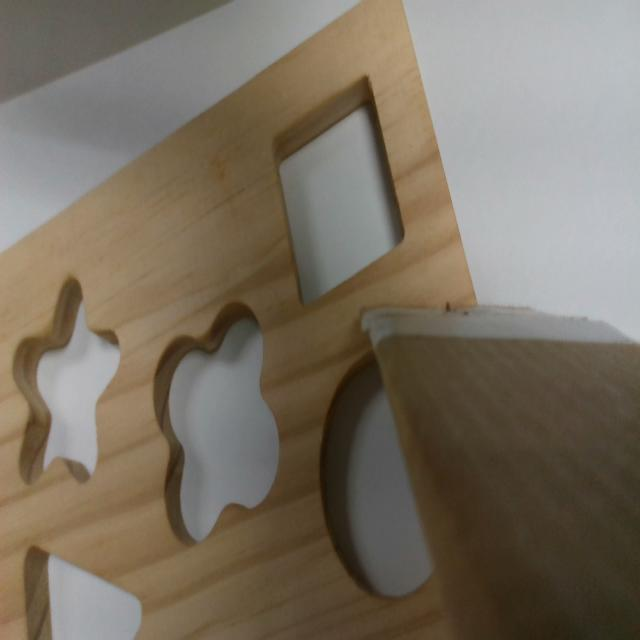circle: (321, 351, 435, 594)
flower: (149, 300, 279, 544)
square: (275, 71, 407, 297)
star: (12, 278, 118, 480)
triangle: (22, 541, 144, 638)
